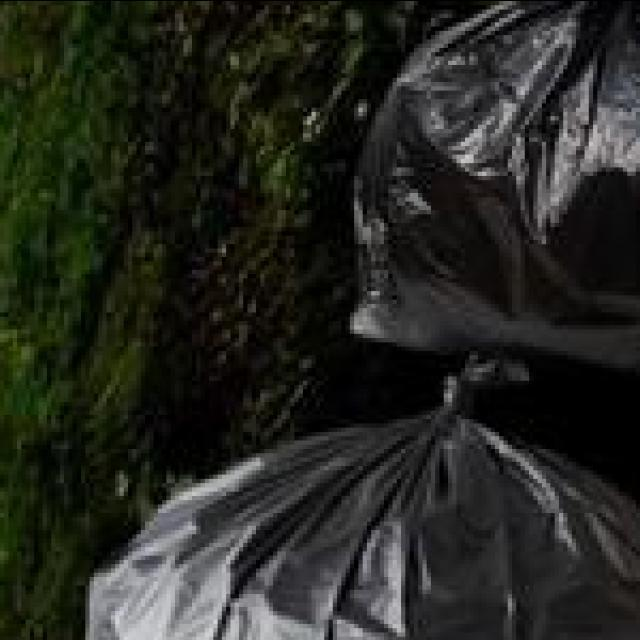Trashbag: (84, 420, 618, 640), (345, 26, 640, 329)
